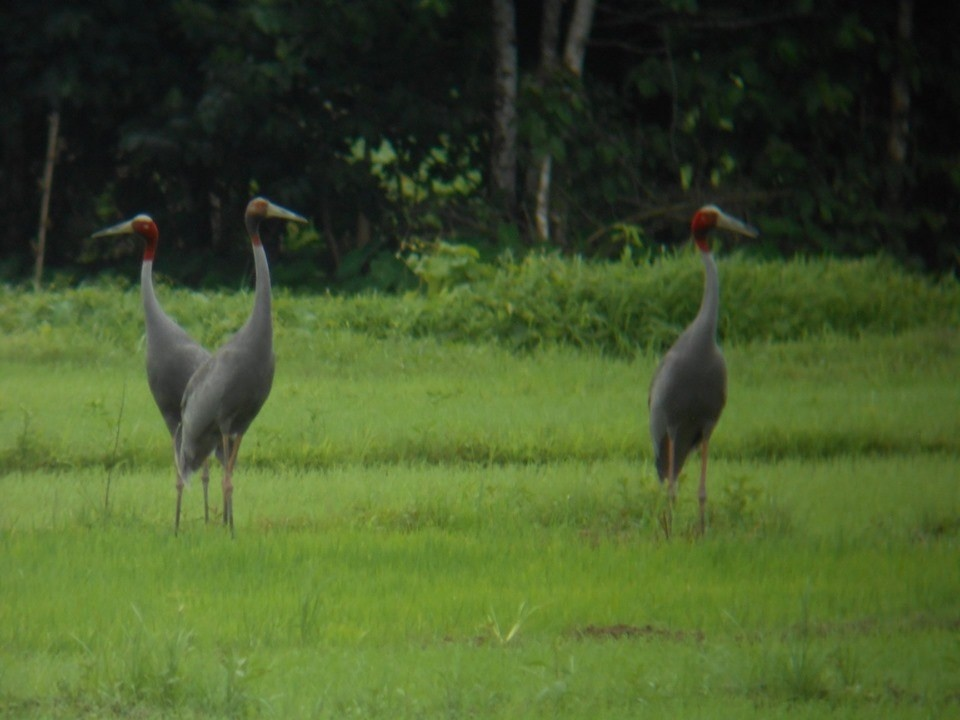crane: (171, 192, 322, 527), (630, 199, 760, 537), (93, 200, 222, 441)
